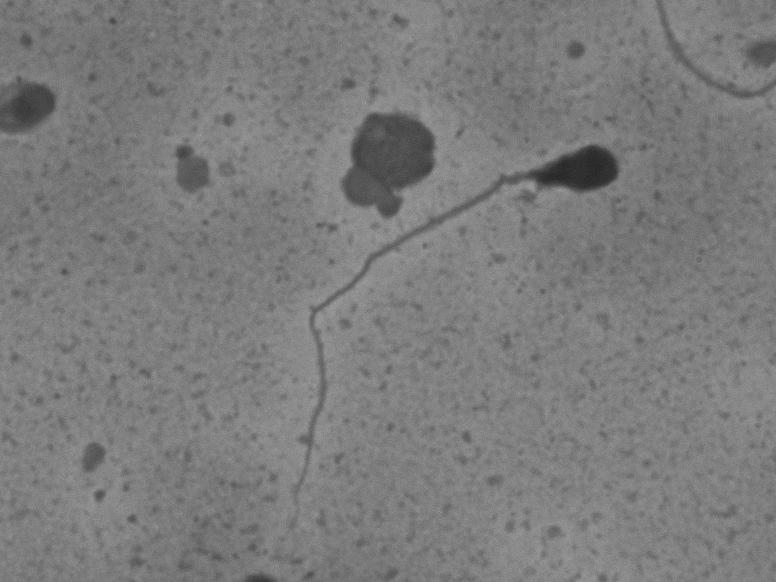Abnormal: (271, 130, 650, 540)
